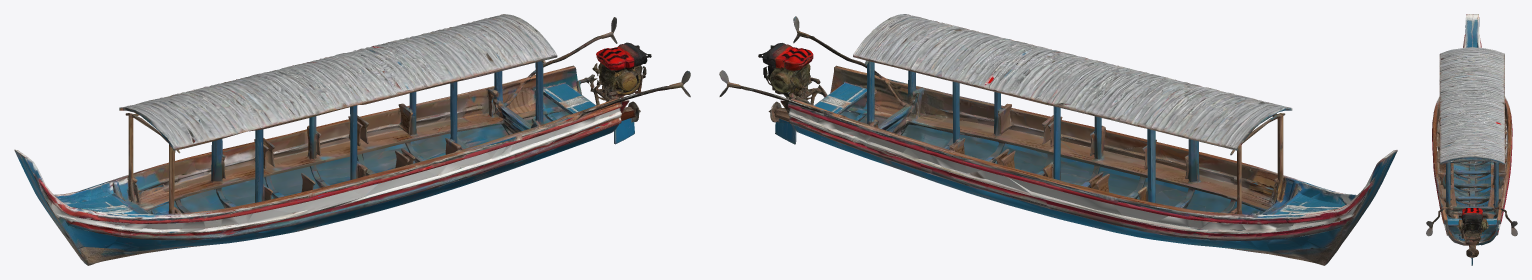
File: longtail-boat.glb
3 views of the same model, side by side, from view 1: azimuth 30°, elevation 25°; view 2: azimuth 150°, elevation 25°; view 3: azimuth 270°, elevation 25° (orthographic). The views are drawn at different scales.
Visible parts, largest first — view 1: Mesh_0; view 2: Mesh_0; view 3: Mesh_0.
Boxes of the visible parts, <box> form: Mesh_0: <box>14,14,690,265</box>; Mesh_0: <box>719,14,1397,265</box>; Mesh_0: <box>1426,14,1517,265</box>.
Bounding box in the file's own units: 0.9995 × 0.214 × 0.2144.
1 material, 1 textured.
